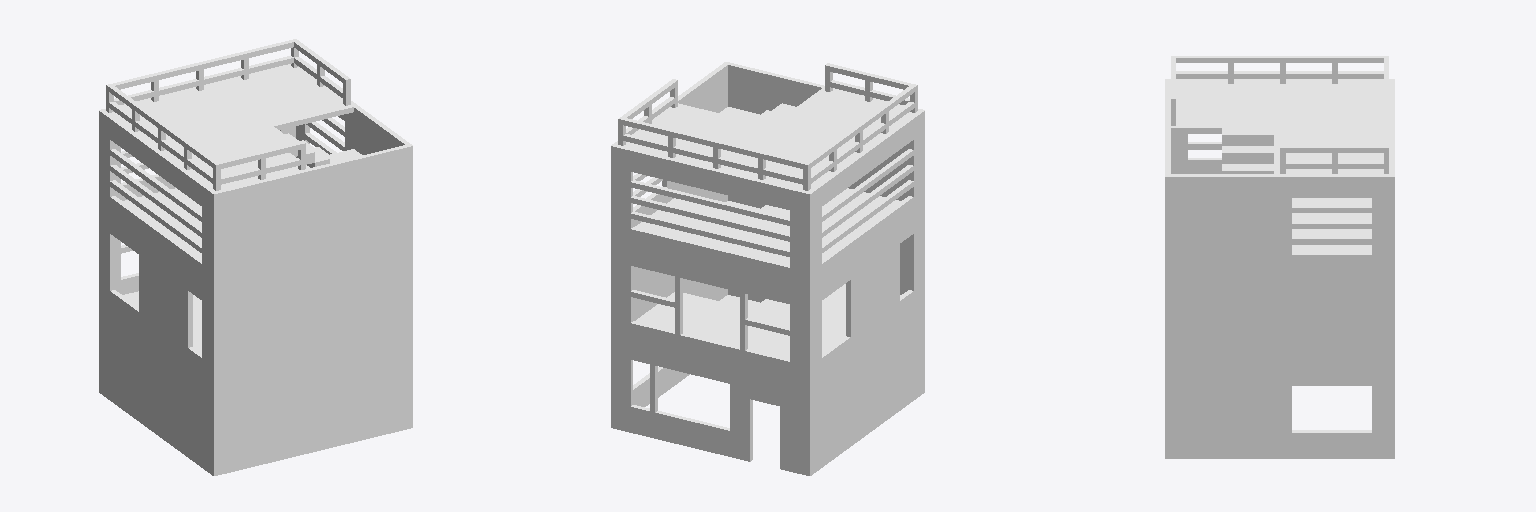
File: skyscraper.obj
3 renders of one model, left to right at view 1: azimuth 30°, elevation 25°; view 2: azimuth 150°, elevation 25°; view 3: azimuth 270°, elevation 25°, orthographic.
Parts seen in each view (by area): view 1: object 1; view 2: object 1; view 3: object 1.
Part boxes in pixels (bbox=[...]): object 1: bbox=[99, 39, 412, 475]; object 1: bbox=[611, 62, 924, 475]; object 1: bbox=[1165, 56, 1394, 458].
Bounding box in the file's own units: 4 × 5.9 × 4.